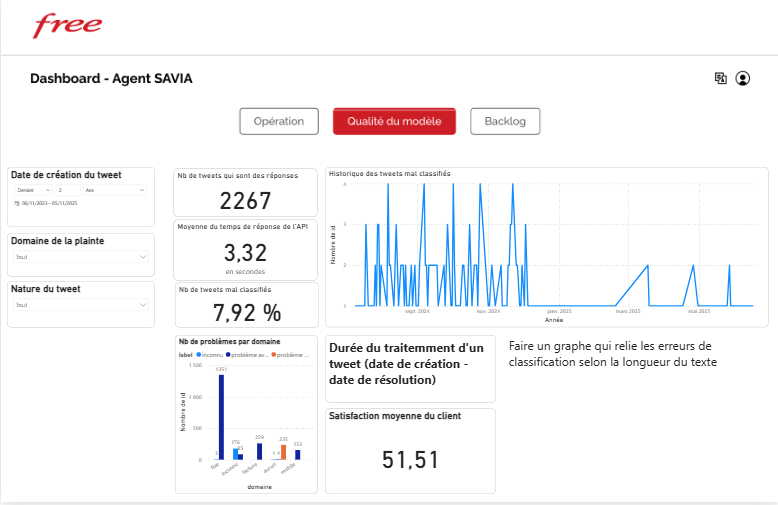

The page's visual inventory and layout, read from the dashboard file:
{"tool":"powerbi","page":{"name":"Qualité du modèle","canvas":[1728,1117],"ordinal":1},"visuals":[{"type":"card","title":"Nb de tweets qui sont des réponses","fields":{"Values":["CountNonNull(tweets_clean_final.id)"]},"box":[385,496.7,320,108.3],"z":0},{"type":"card","title":"Nb de tweets mal classifiés","fields":{"Values":["tweets_classified_clean_2.Pourcentage_Inconnu"]},"box":[386.7,375,320,100],"z":1000},{"type":"actionButton","box":[734.3,245.7,282.9,60],"z":2000},{"type":"actionButton","box":[527.5,245,177.5,61.2],"z":3000},{"type":"actionButton","box":[1043.8,245,155,60],"z":4000},{"type":"slicer","title":"Date de création du tweet","fields":{"Values":["tweets_classified_clean_2.created_at"]},"box":[14.3,374.3,325.7,132.9],"z":5000},{"type":"slicer","title":"Domaine de la plainte","fields":{"Values":["tweets_classified_clean_2.domaine"]},"box":[13.7,519.2,328.3,96.7],"z":6000},{"type":"slicer","title":"Nature du tweet","fields":{"Values":["tweets_classified_clean_2.label"]},"box":[13.7,627.6,328.3,103.3],"z":7000},{"type":"card","title":"Moyenne du temps de réponse de l''API","fields":{"Values":["Avg(tweets_classified_clean_2.duration_seconds)"]},"box":[384,762,322,140],"z":9000},{"type":"lineChart","title":"Pourcentage de tweets mal classifiés","fields":{"Category":["tweets_clean_final.Longueur_Texte_Tranches"],"Y":["tweets_clean_final.Pourcentage_Inconnu"],"Y2":["CountNonNull(tweets_clean_final.id)"]},"box":[717.5,375,992.5,355],"z":10000},{"type":"lineChart","title":"Historique des tweets mal classifiés","fields":{"Category":["tweets_clean_final.created_at.Variation.Hiérarchie de dates.Année","tweets_clean_final.created_at.Variation.Hiérarchie de dates.Mois","tweets_clean_final.created_at.Variation.Hiérarchie de dates.Jour"],"Y":["CountNonNull(tweets_clean_final.label)"]},"box":[718.3,745,993.3,348.3],"z":11000},{"type":"card","title":"Nb de tweets qui sont des réponses mal classifiés","fields":{"Values":["CountNonNull(tweets_clean_final.id)"]},"box":[386,622,320,124],"z":13000}]}

Visuals, with their boxes in screenshot pixels (x1, y1, x2, y2), scaled from the page's 1728x1117 canvas onto the 778x505 screenshot:
"Nb de tweets qui sont des réponses" card: pyautogui.locateOnScreen(173, 225, 317, 274)
"Nb de tweets mal classifiés" card: pyautogui.locateOnScreen(174, 170, 318, 215)
actionButton: pyautogui.locateOnScreen(331, 111, 458, 138)
actionButton: pyautogui.locateOnScreen(237, 111, 317, 138)
actionButton: pyautogui.locateOnScreen(470, 111, 540, 138)
"Date de création du tweet" slicer: pyautogui.locateOnScreen(6, 169, 153, 229)
"Domaine de la plainte" slicer: pyautogui.locateOnScreen(6, 235, 154, 278)
"Nature du tweet" slicer: pyautogui.locateOnScreen(6, 284, 154, 330)
"Moyenne du temps de réponse de l''API" card: pyautogui.locateOnScreen(173, 345, 318, 408)
"Pourcentage de tweets mal classifiés" lineChart: pyautogui.locateOnScreen(323, 170, 770, 330)
"Historique des tweets mal classifiés" lineChart: pyautogui.locateOnScreen(323, 337, 771, 494)
"Nb de tweets qui sont des réponses mal classifiés" card: pyautogui.locateOnScreen(174, 281, 318, 337)
